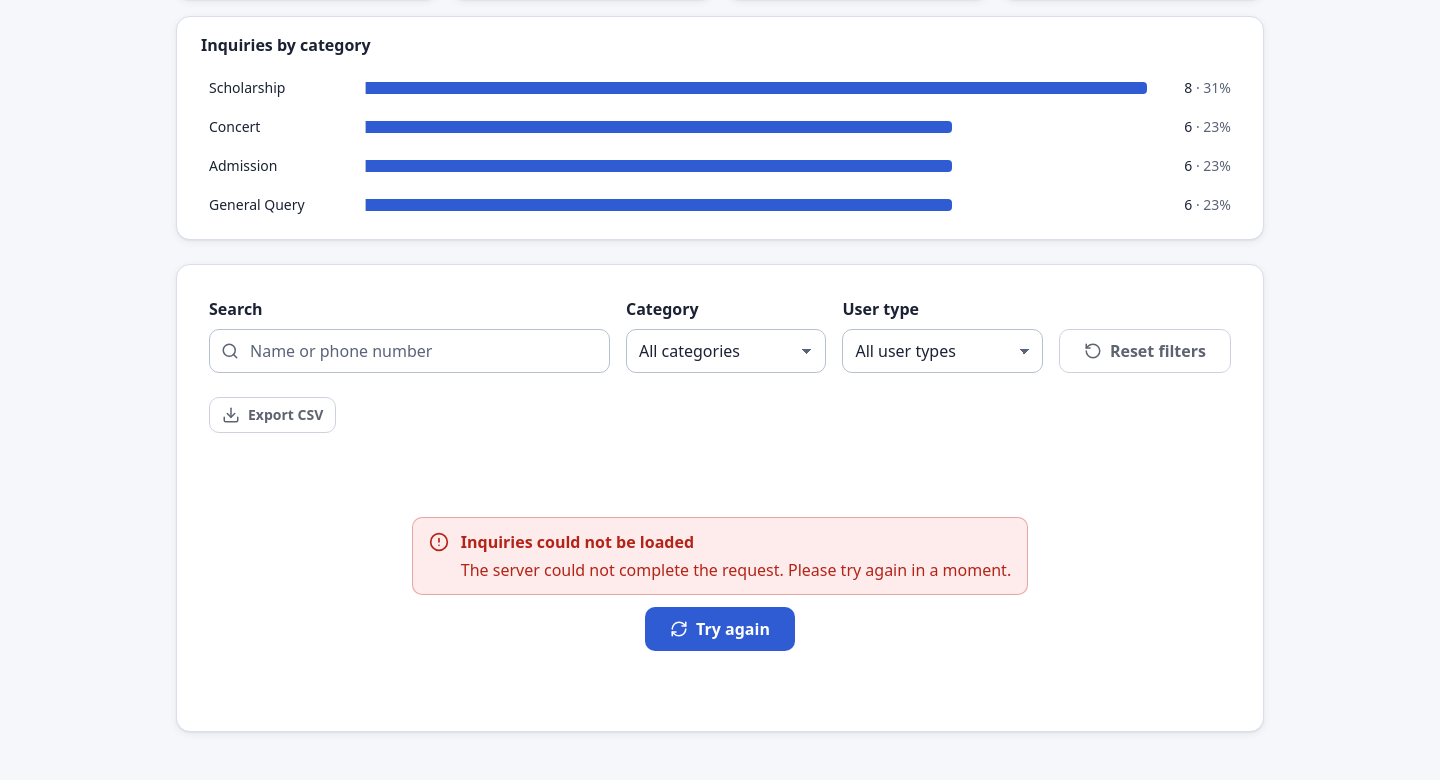
empty, no-results and error states › shows an error with a retry when loading fails
This screenshot has width=1440, height=780.
(page scrolled)
Check: the message shows "Inquiries could not be loaded", box x1=461 y1=531 x2=694 y2=553
Click the button "Try again" at x=720, y=629, box x1=645 y1=607 x2=795 y2=651
(page scrolled)
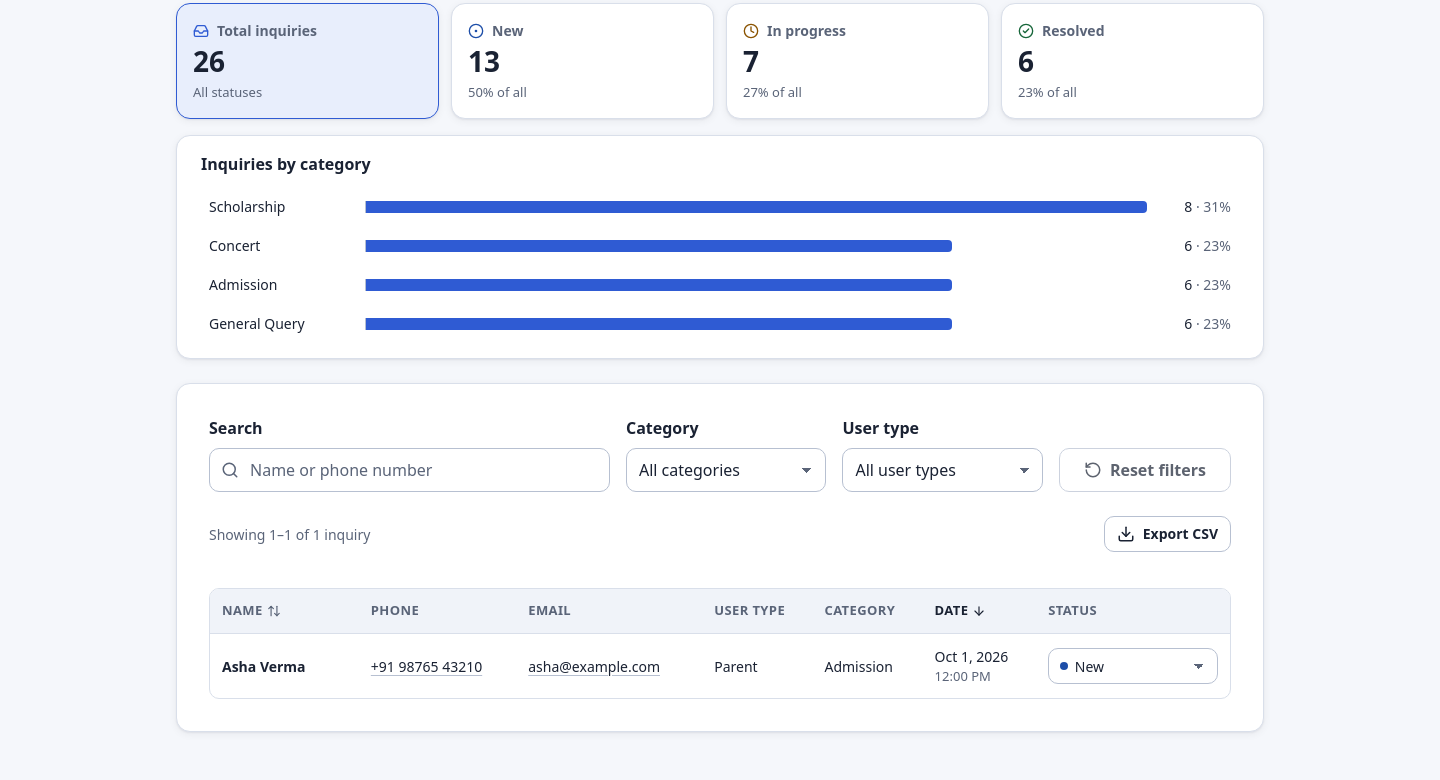
Check: the table is shown, box x1=210 y1=589 x2=1230 y2=698
